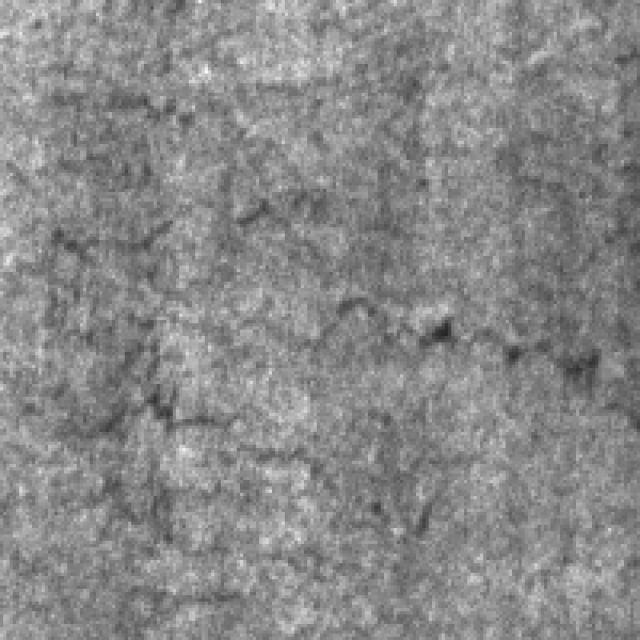crazing: (138, 381, 566, 550), (182, 260, 621, 422), (0, 205, 237, 438), (19, 458, 250, 598)
